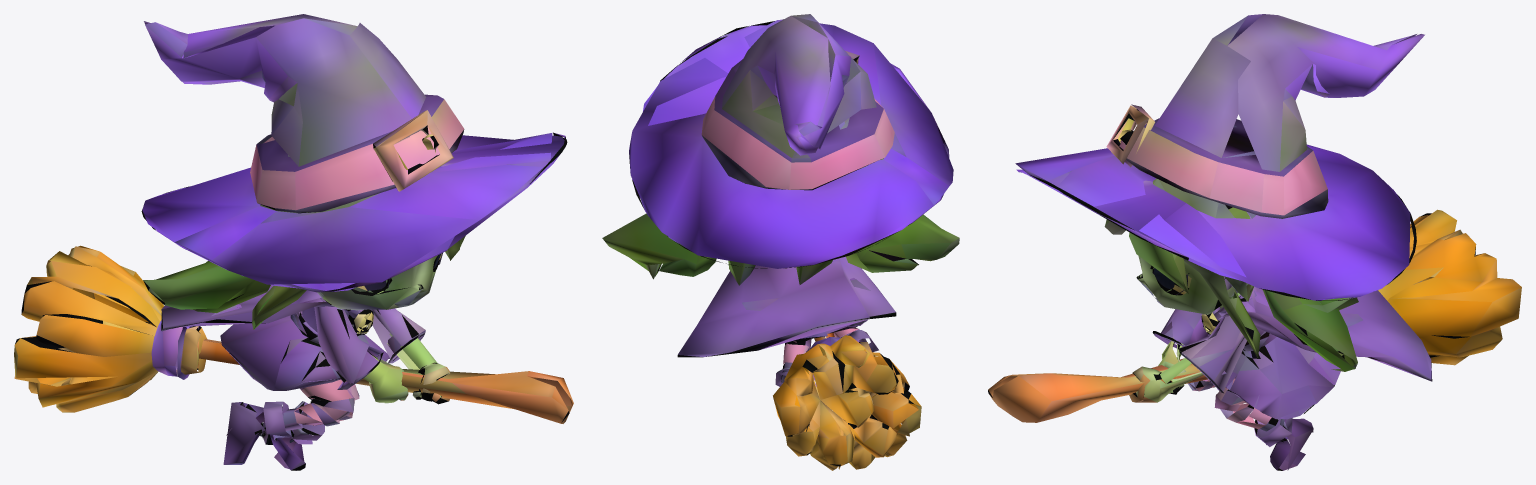
File: kit-witch.lod.glb
The picture shows the model from 3 angles, left to right: view 1: azimuth 30°, elevation 25°; view 2: azimuth 150°, elevation 25°; view 3: azimuth 270°, elevation 25°; orthographic projection. The views are drawn at different scales.
Parts seen in each view (by area): view 1: WBA_Character_Witch_01_WBA_MAT_Halloween_Atlas_0.001; view 2: WBA_Character_Witch_01_WBA_MAT_Halloween_Atlas_0.001; view 3: WBA_Character_Witch_01_WBA_MAT_Halloween_Atlas_0.001.
Boxes of the visible parts, box(x1,y1,x2,y2) form: WBA_Character_Witch_01_WBA_MAT_Halloween_Atlas_0.001: box(14, 14, 573, 470); WBA_Character_Witch_01_WBA_MAT_Halloween_Atlas_0.001: box(602, 14, 959, 470); WBA_Character_Witch_01_WBA_MAT_Halloween_Atlas_0.001: box(988, 14, 1521, 470).
Size of the model in its own units: 1.51 by 1.57 by 1.7.
Materials: 1 (1 with a texture image).
